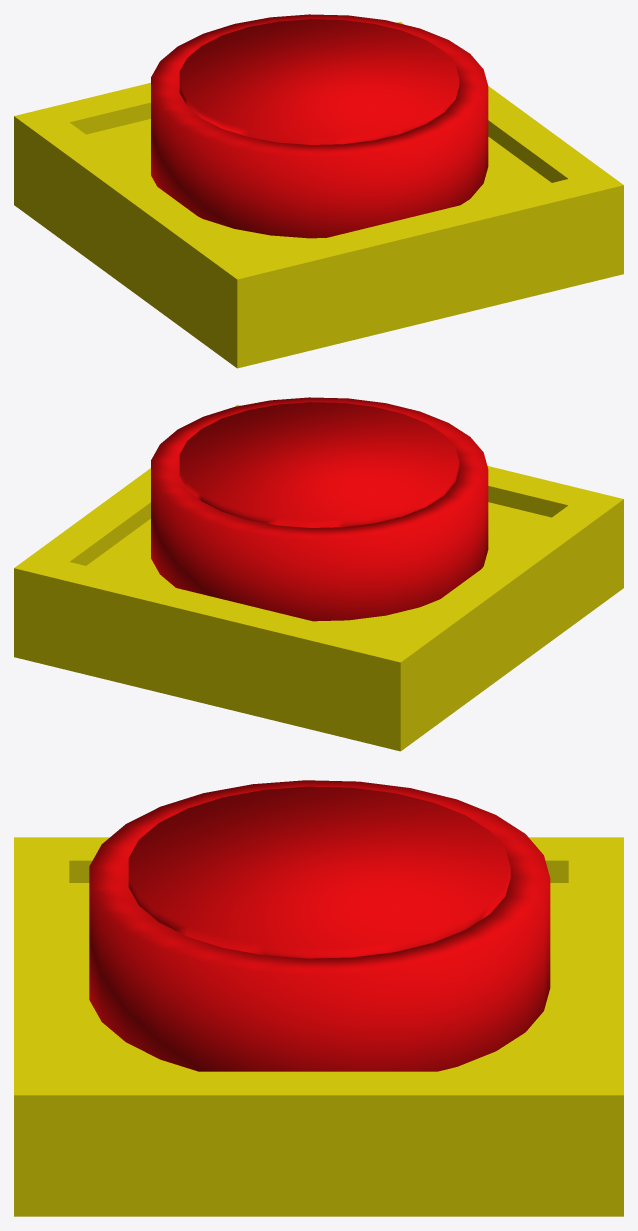
Rendered from 699754_autosave.glb.
The picture shows the model from 3 angles, top to bottom: view 1: azimuth 30°, elevation 25°; view 2: azimuth 150°, elevation 25°; view 3: azimuth 270°, elevation 25°; orthographic projection. The views are drawn at different scales.
Visible parts, largest first — view 1: Cube, Cylinder; view 2: Cube, Cylinder; view 3: Cube, Cylinder.
Boxes of the visible parts, bbox=[...] form: Cube: bbox=[14, 22, 623, 368]; Cylinder: bbox=[151, 14, 488, 238]; Cube: bbox=[14, 405, 623, 751]; Cylinder: bbox=[151, 397, 488, 621]; Cube: bbox=[14, 837, 623, 1216]; Cylinder: bbox=[89, 780, 550, 1071].
Size of the model in its own units: 6.89 by 2.74 by 6.89.
